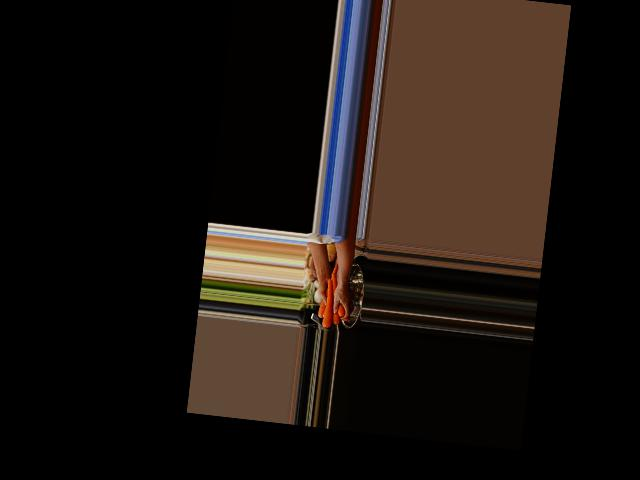carrot: (323, 270, 344, 325)
